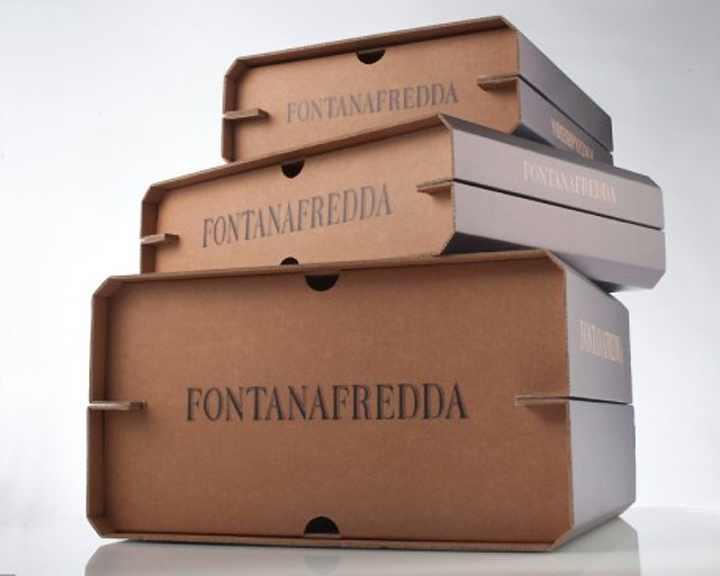Rec_Paper: (45, 10, 702, 550)
